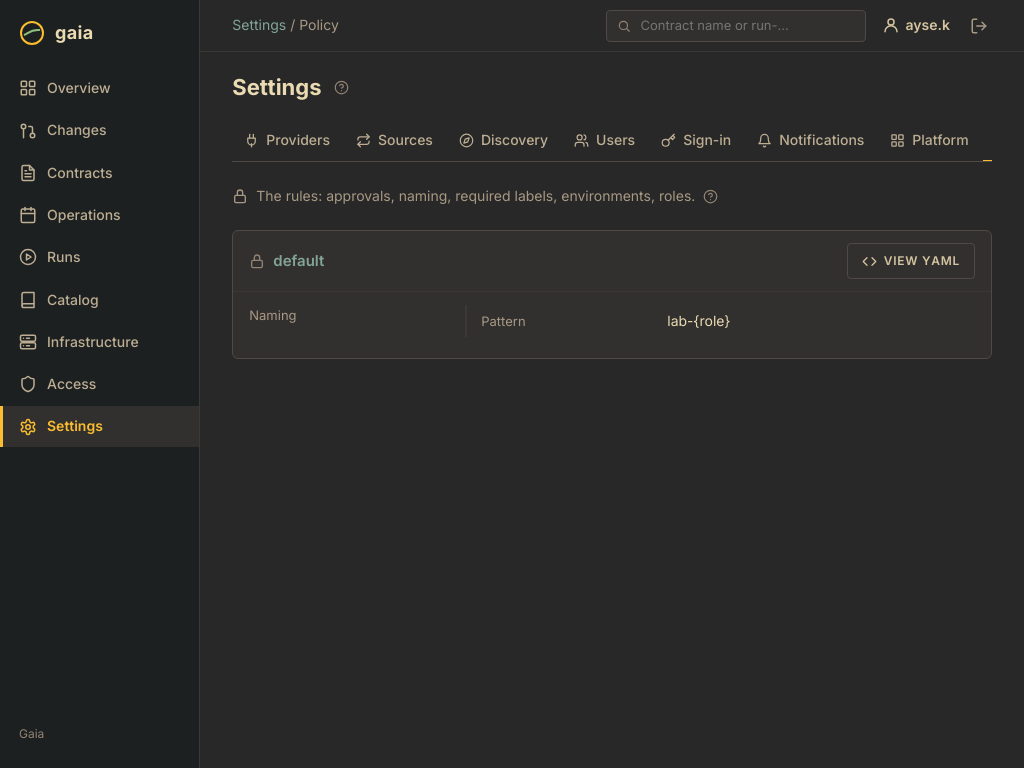
settings › shows the Policy as fields, and its YAML on request
Expected: the text "lab-{role}" is shown, [667,312,730,329]
Expected: the text "Pattern" is shown, [481,313,526,329]
Click the button "View YAML" at point(911, 261), box [847,243,975,279]
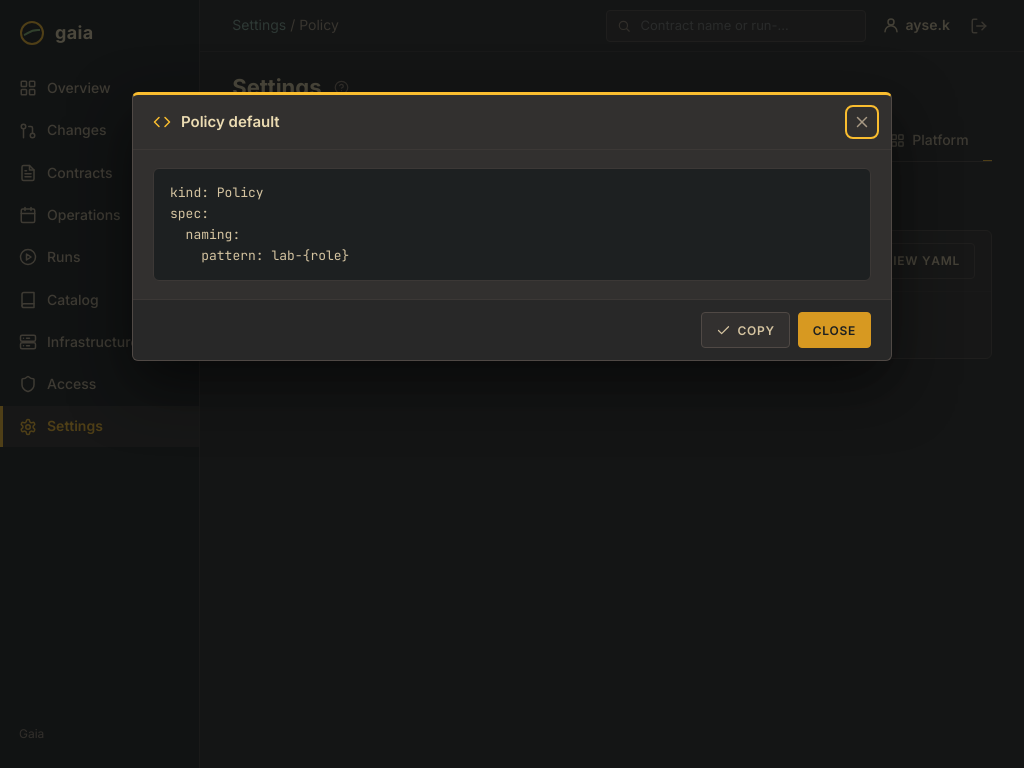
Now the text "kind: Policy spec: naming: pattern: lab-{role}" is shown, box [153,168,871,281]
